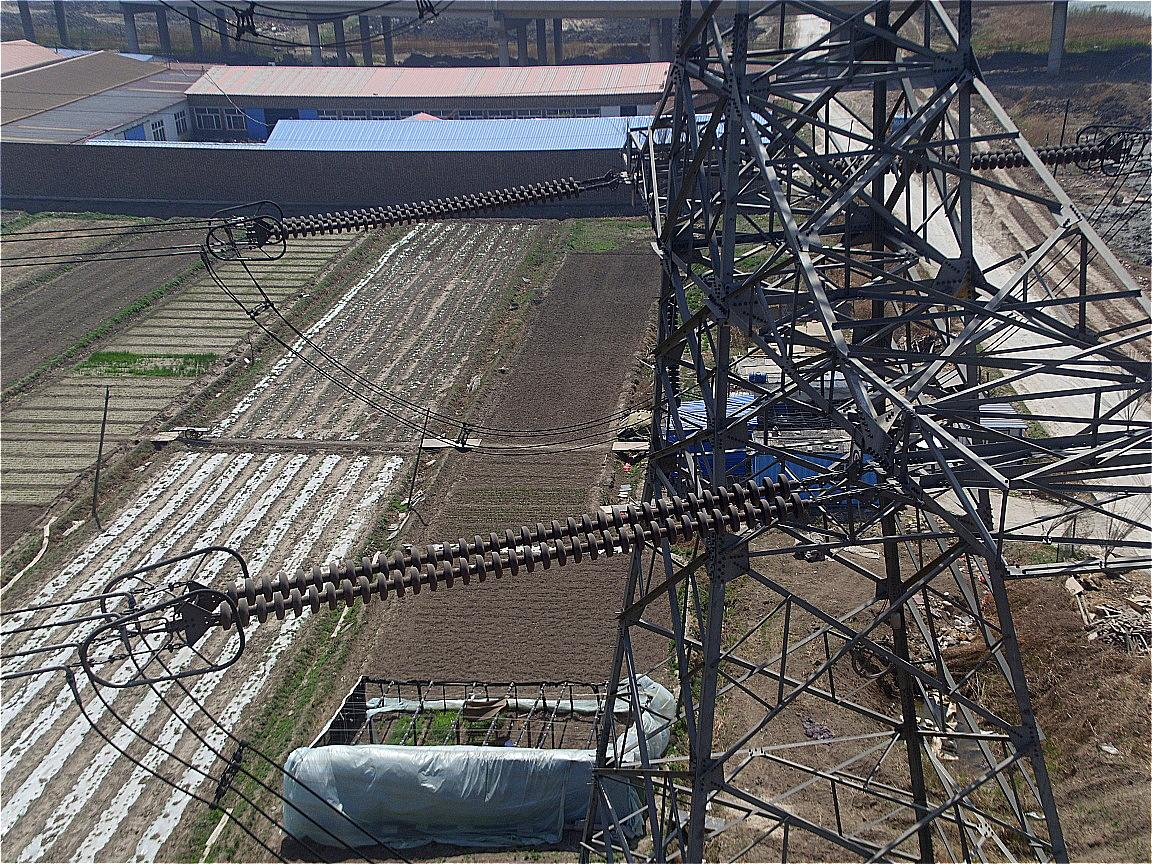insultor1: (202, 468, 848, 637), (259, 168, 596, 251)
